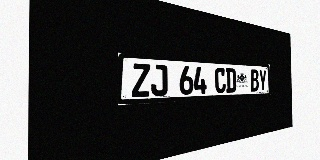4: (194, 66, 206, 94)
6: (179, 66, 193, 95)
B: (250, 69, 259, 92)
C: (215, 67, 226, 93)
D: (226, 68, 236, 93)
J: (151, 64, 167, 96)
Y: (259, 70, 267, 91)
Z: (132, 63, 150, 97)
